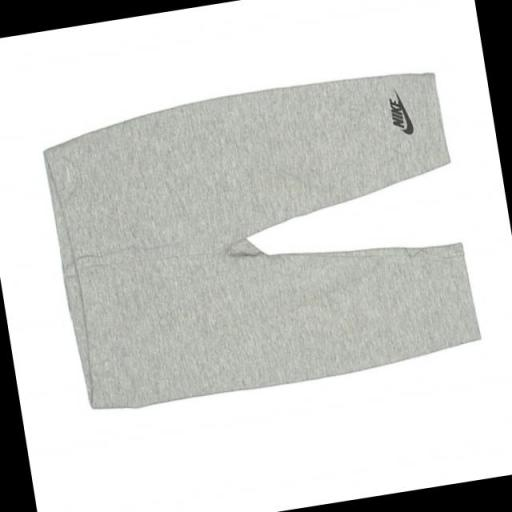Nike: (397, 90, 414, 136), (390, 96, 404, 130)
